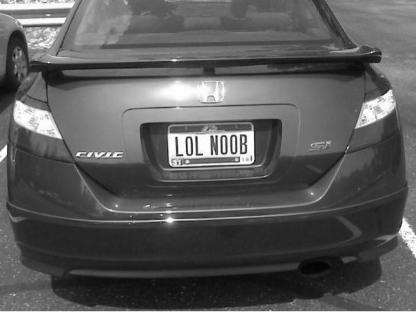license plate: (162, 119, 266, 169)
